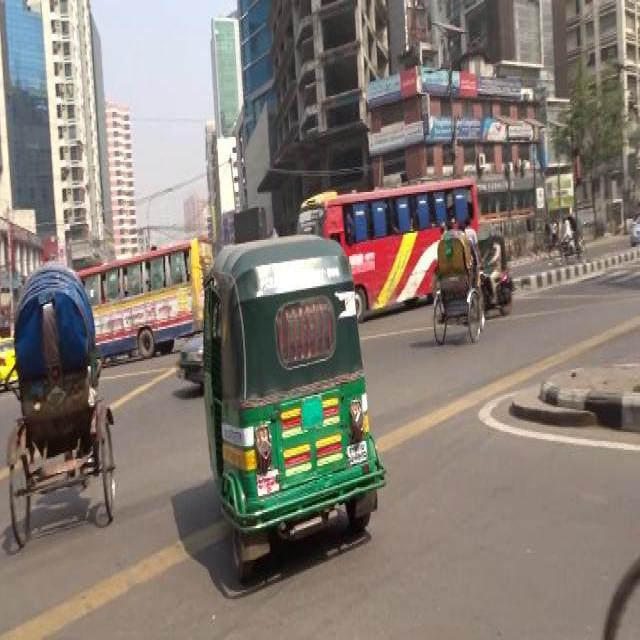bike: (481, 231, 516, 320)
vehicle: (201, 232, 389, 584), (8, 262, 120, 547), (296, 177, 485, 316), (72, 234, 217, 358), (433, 217, 489, 350), (556, 209, 586, 262), (2, 334, 19, 386), (543, 218, 561, 260)
